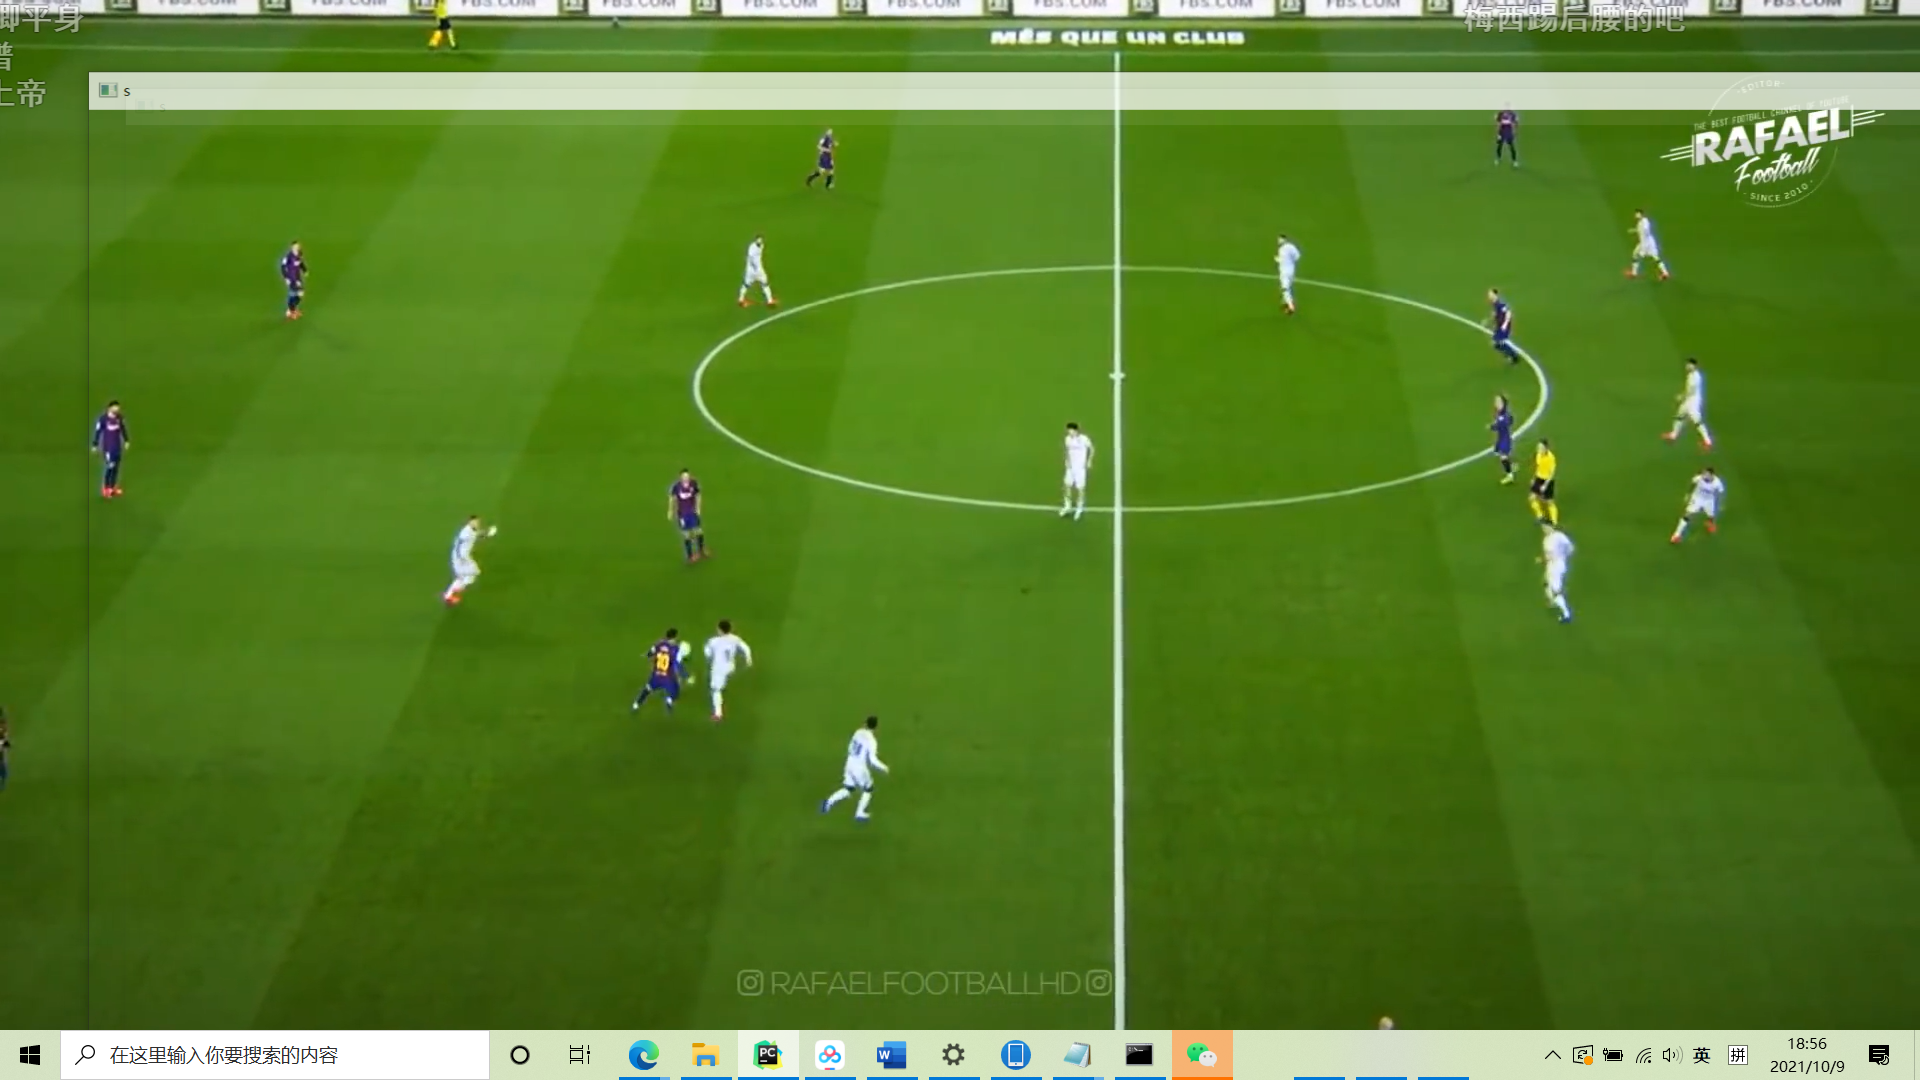ft: (676, 640, 692, 659)
